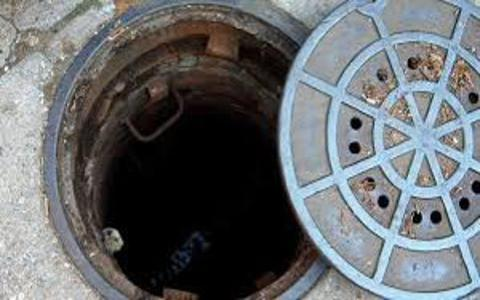open manhole: (27, 3, 368, 300)
